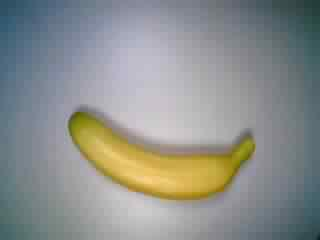banana: (63, 101, 261, 210)
